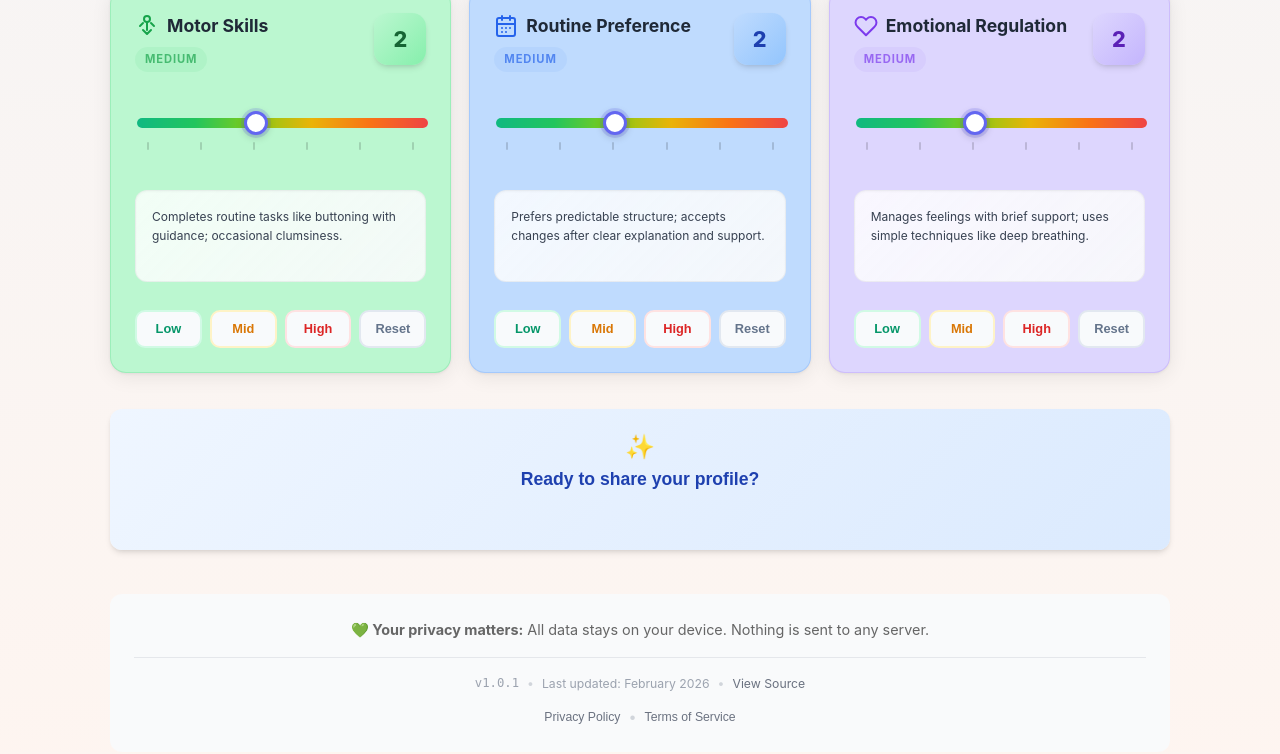
Scenario: Application Integration Tests › Support Strategies Section › should display the What Helps section header
The image size is (1280, 754).
(page scrolled)
Expected: the text "Ready to share your profile?" is shown, [521,469,759,490]
Click the button "✨ Ready to share your profile?".
click(640, 479)  # box [110,409,1170,550]
(page scrolled)
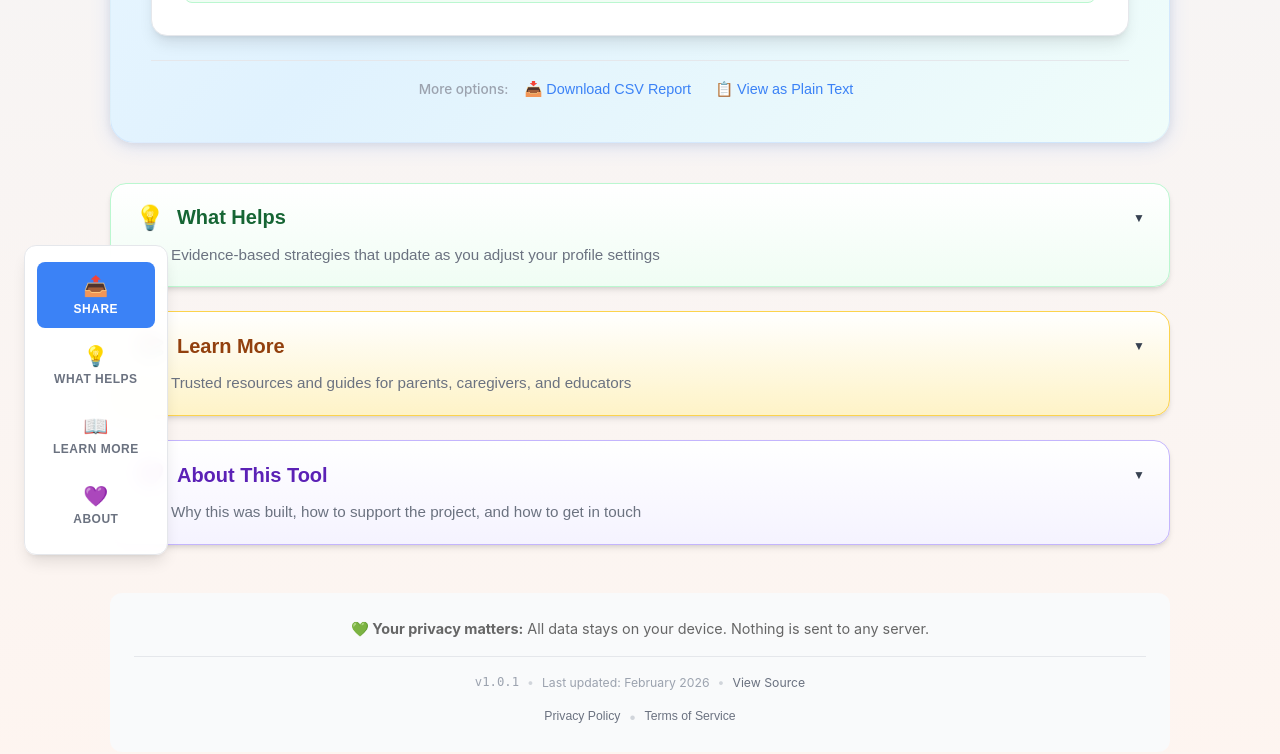
Now the element "What Helps" is shown, box [110,183,1170,287]
